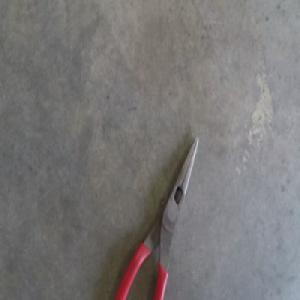Pliers: (115, 136, 198, 298)
